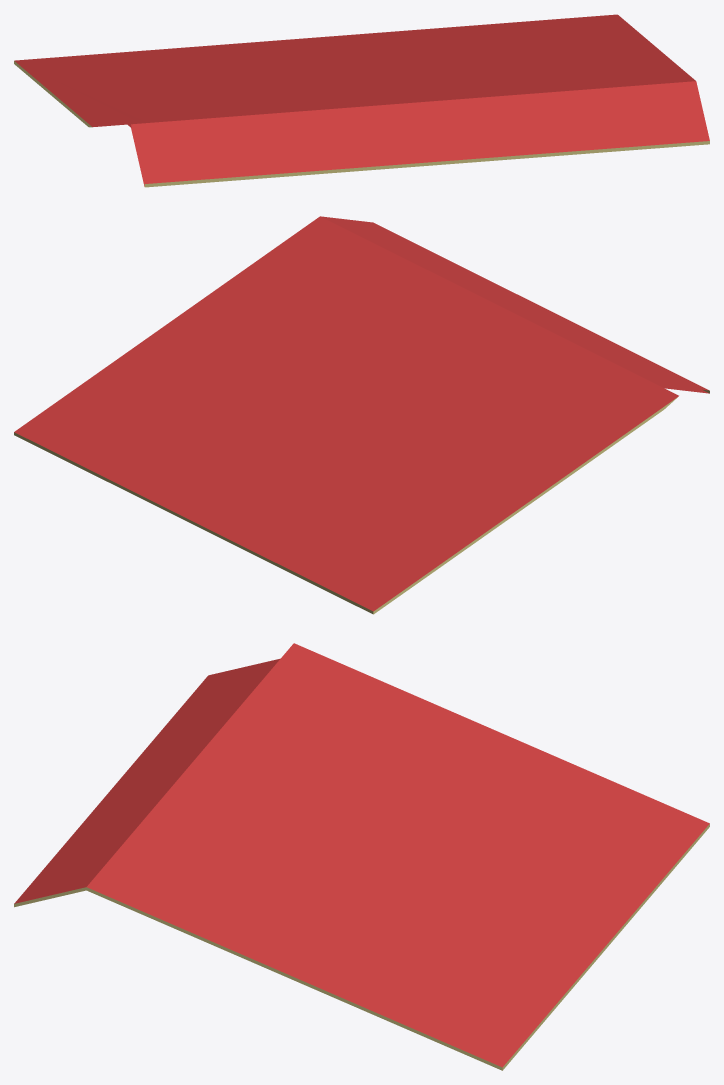
The picture shows the model from 3 angles, top to bottom: view 1: azimuth 30°, elevation 25°; view 2: azimuth 150°, elevation 25°; view 3: azimuth 270°, elevation 25°; orthographic projection. The views are drawn at different scales.
Size of the model in its own units: 19.56 by 18.73 by 3.58.
